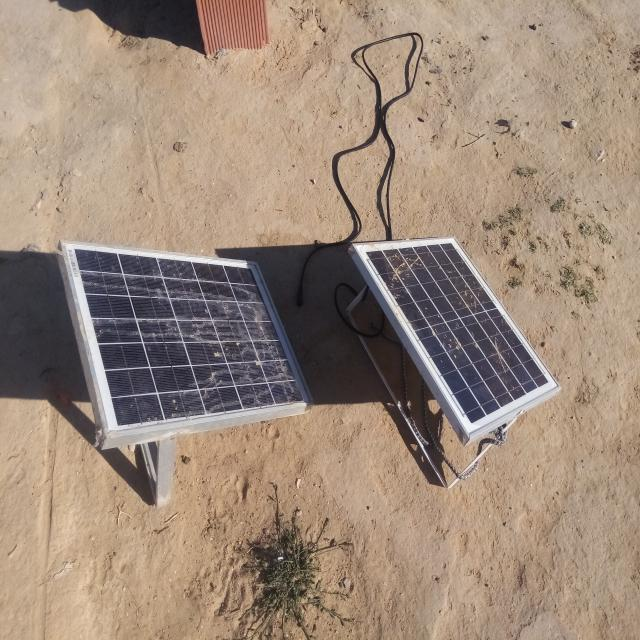faulty: (62, 241, 315, 433), (352, 237, 560, 439)
